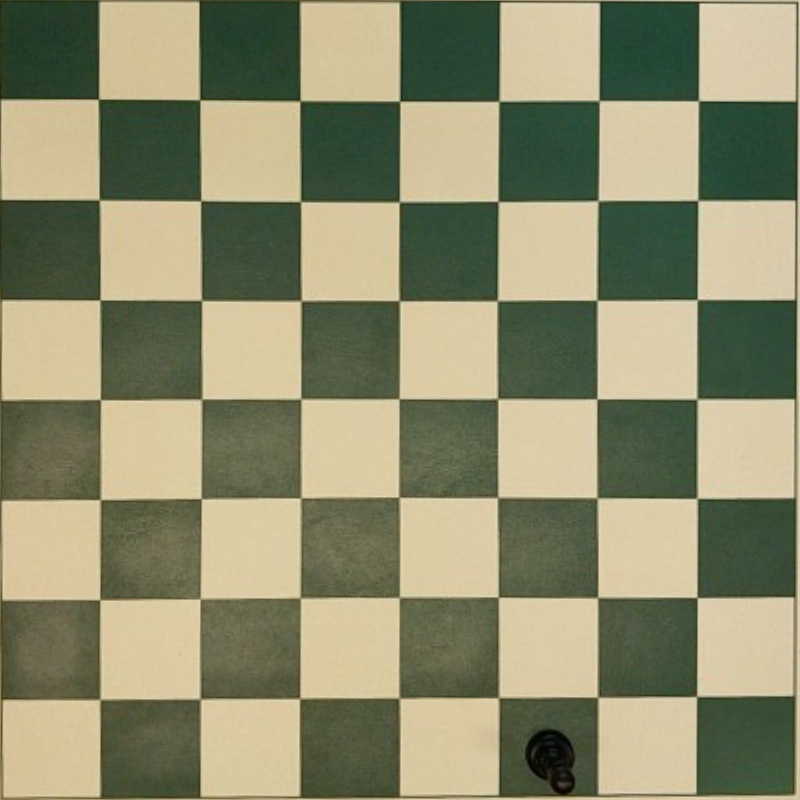black-pawn: (525, 729, 576, 793)
